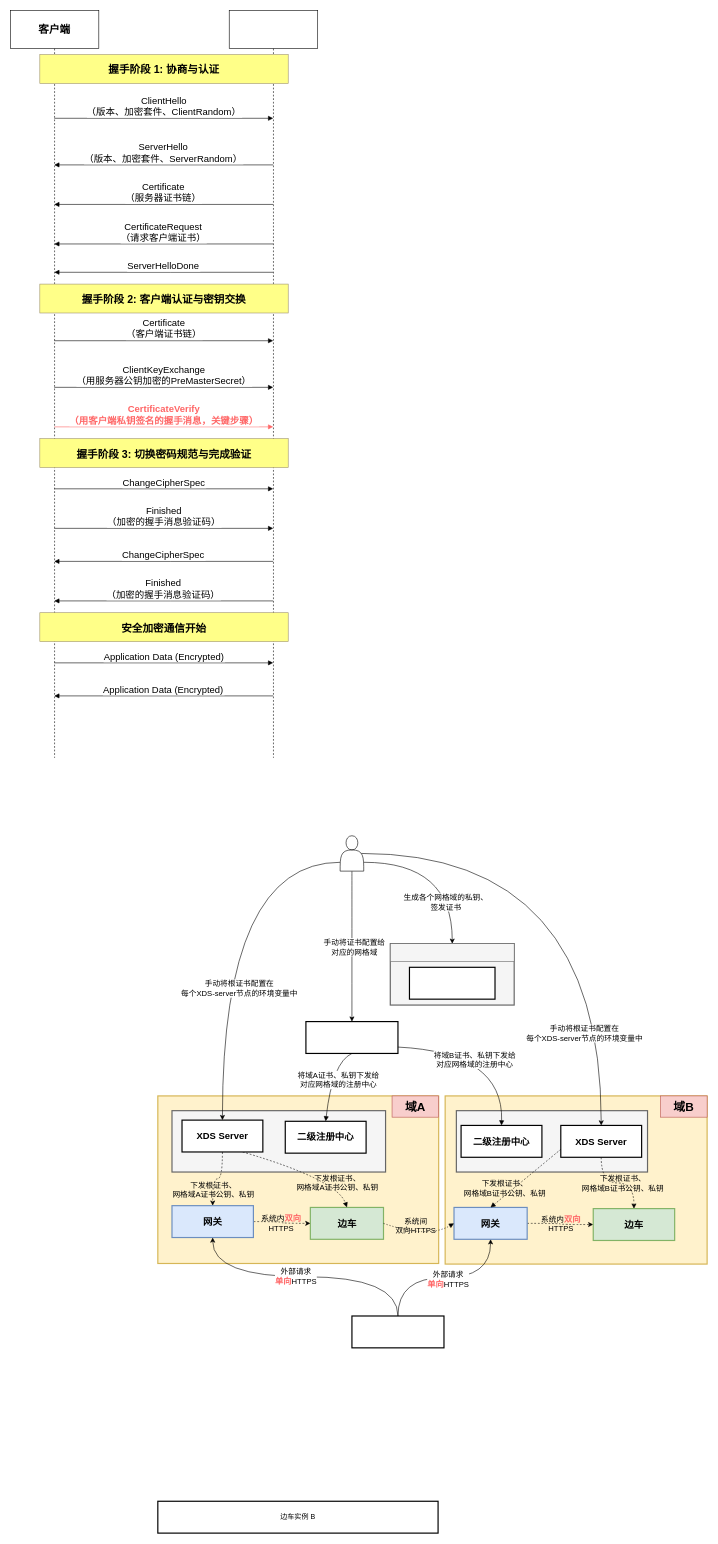
Some shapes in this 718 by 1544 pixel diagram are drawn without their labels. The shapes that lost their labels are listed below. From the top down, each one's box as (x1, y1, x2, y2) in pixels, then its label:
(229, 10, 318, 758): 服务器
(390, 943, 514, 961): 测试环境 paas容器
(409, 966, 495, 999): 根证书私钥
(305, 1021, 398, 1054): 网格门户
(351, 1315, 444, 1348): 云桌面、NG、F5等
